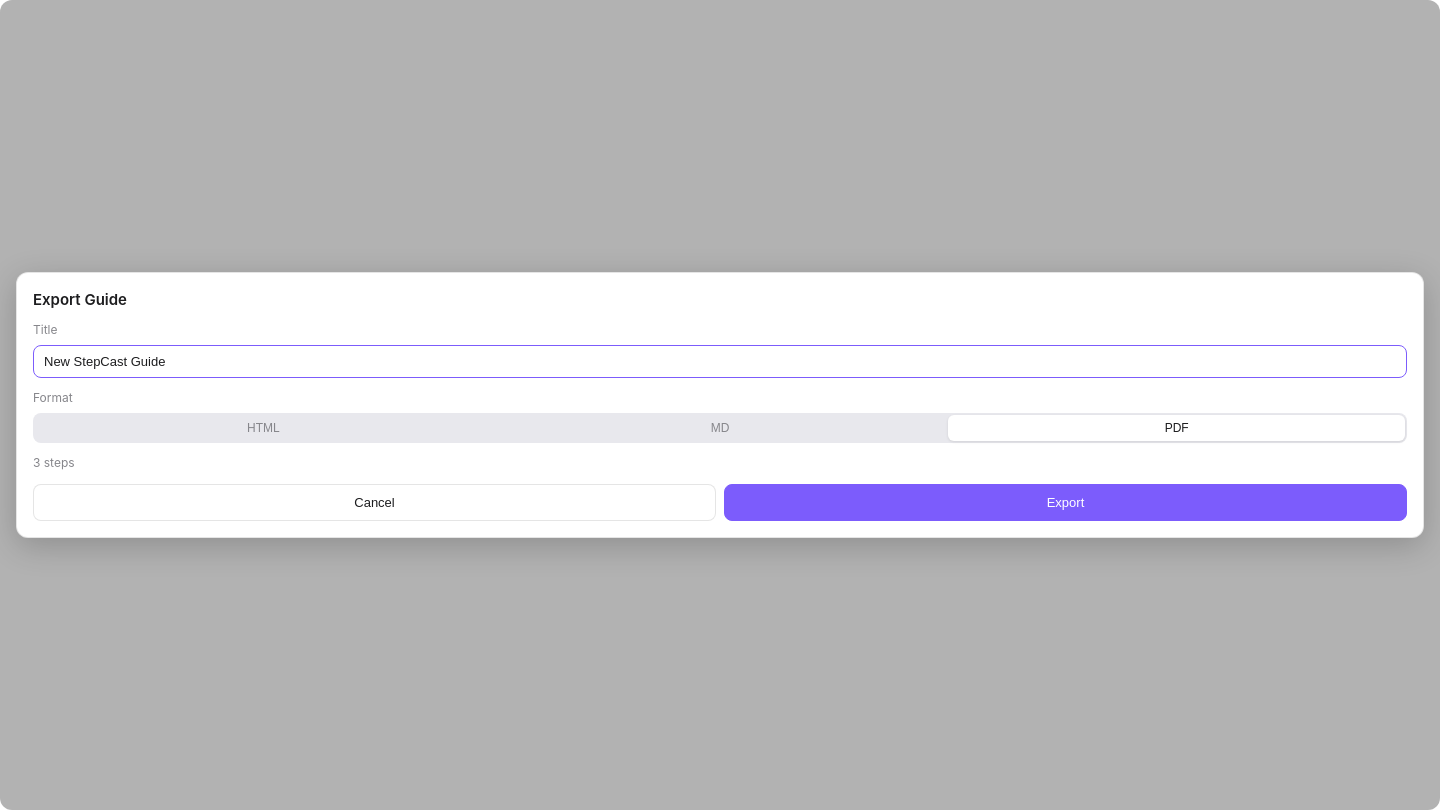
Test case: ExportSheet › disables export when title is empty
Clear the field showing "New StepCast Guide" at (720, 362), box left=33, top=345, right=1407, bottom=378
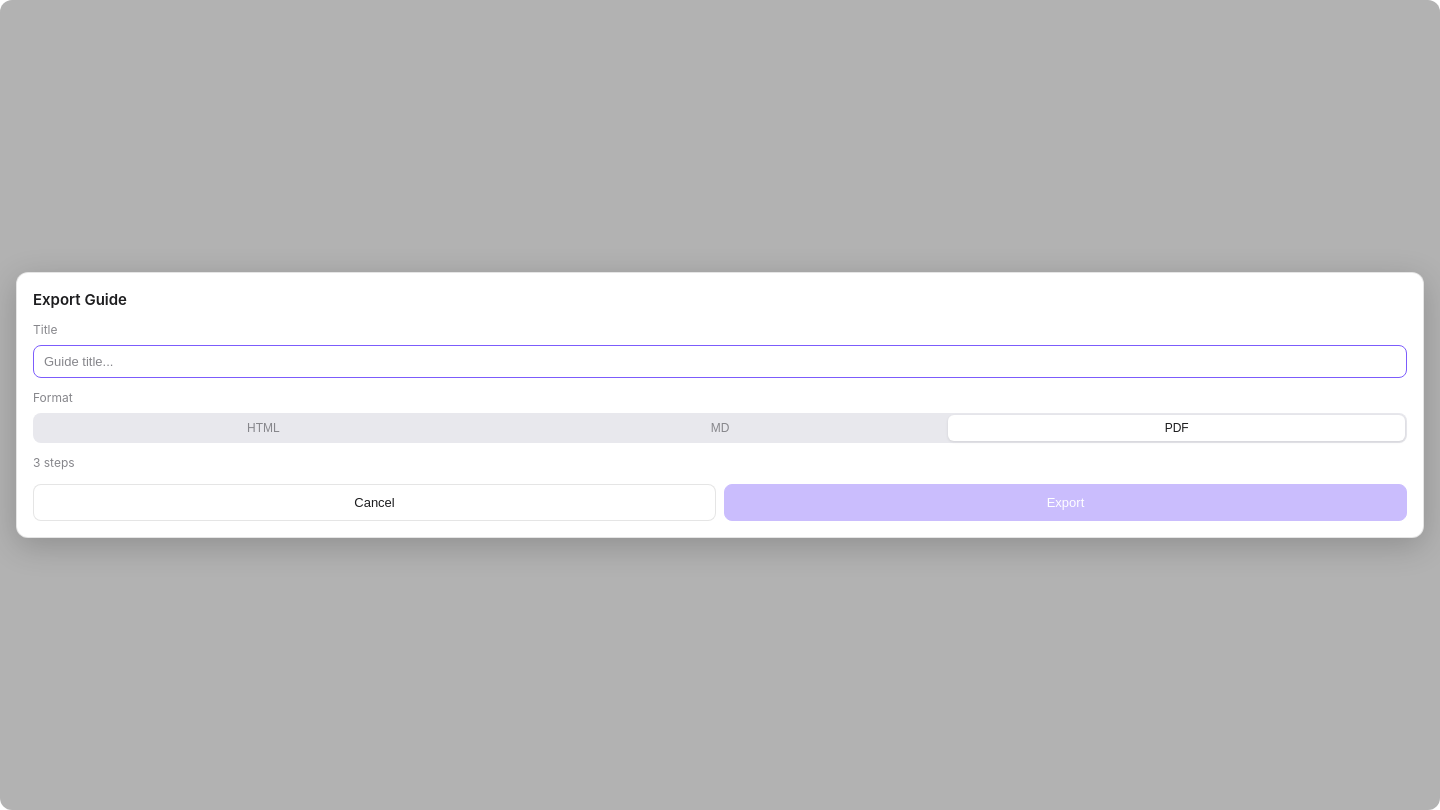
Expected: the button "Export" is disabled, left=724, top=484, right=1407, bottom=521
